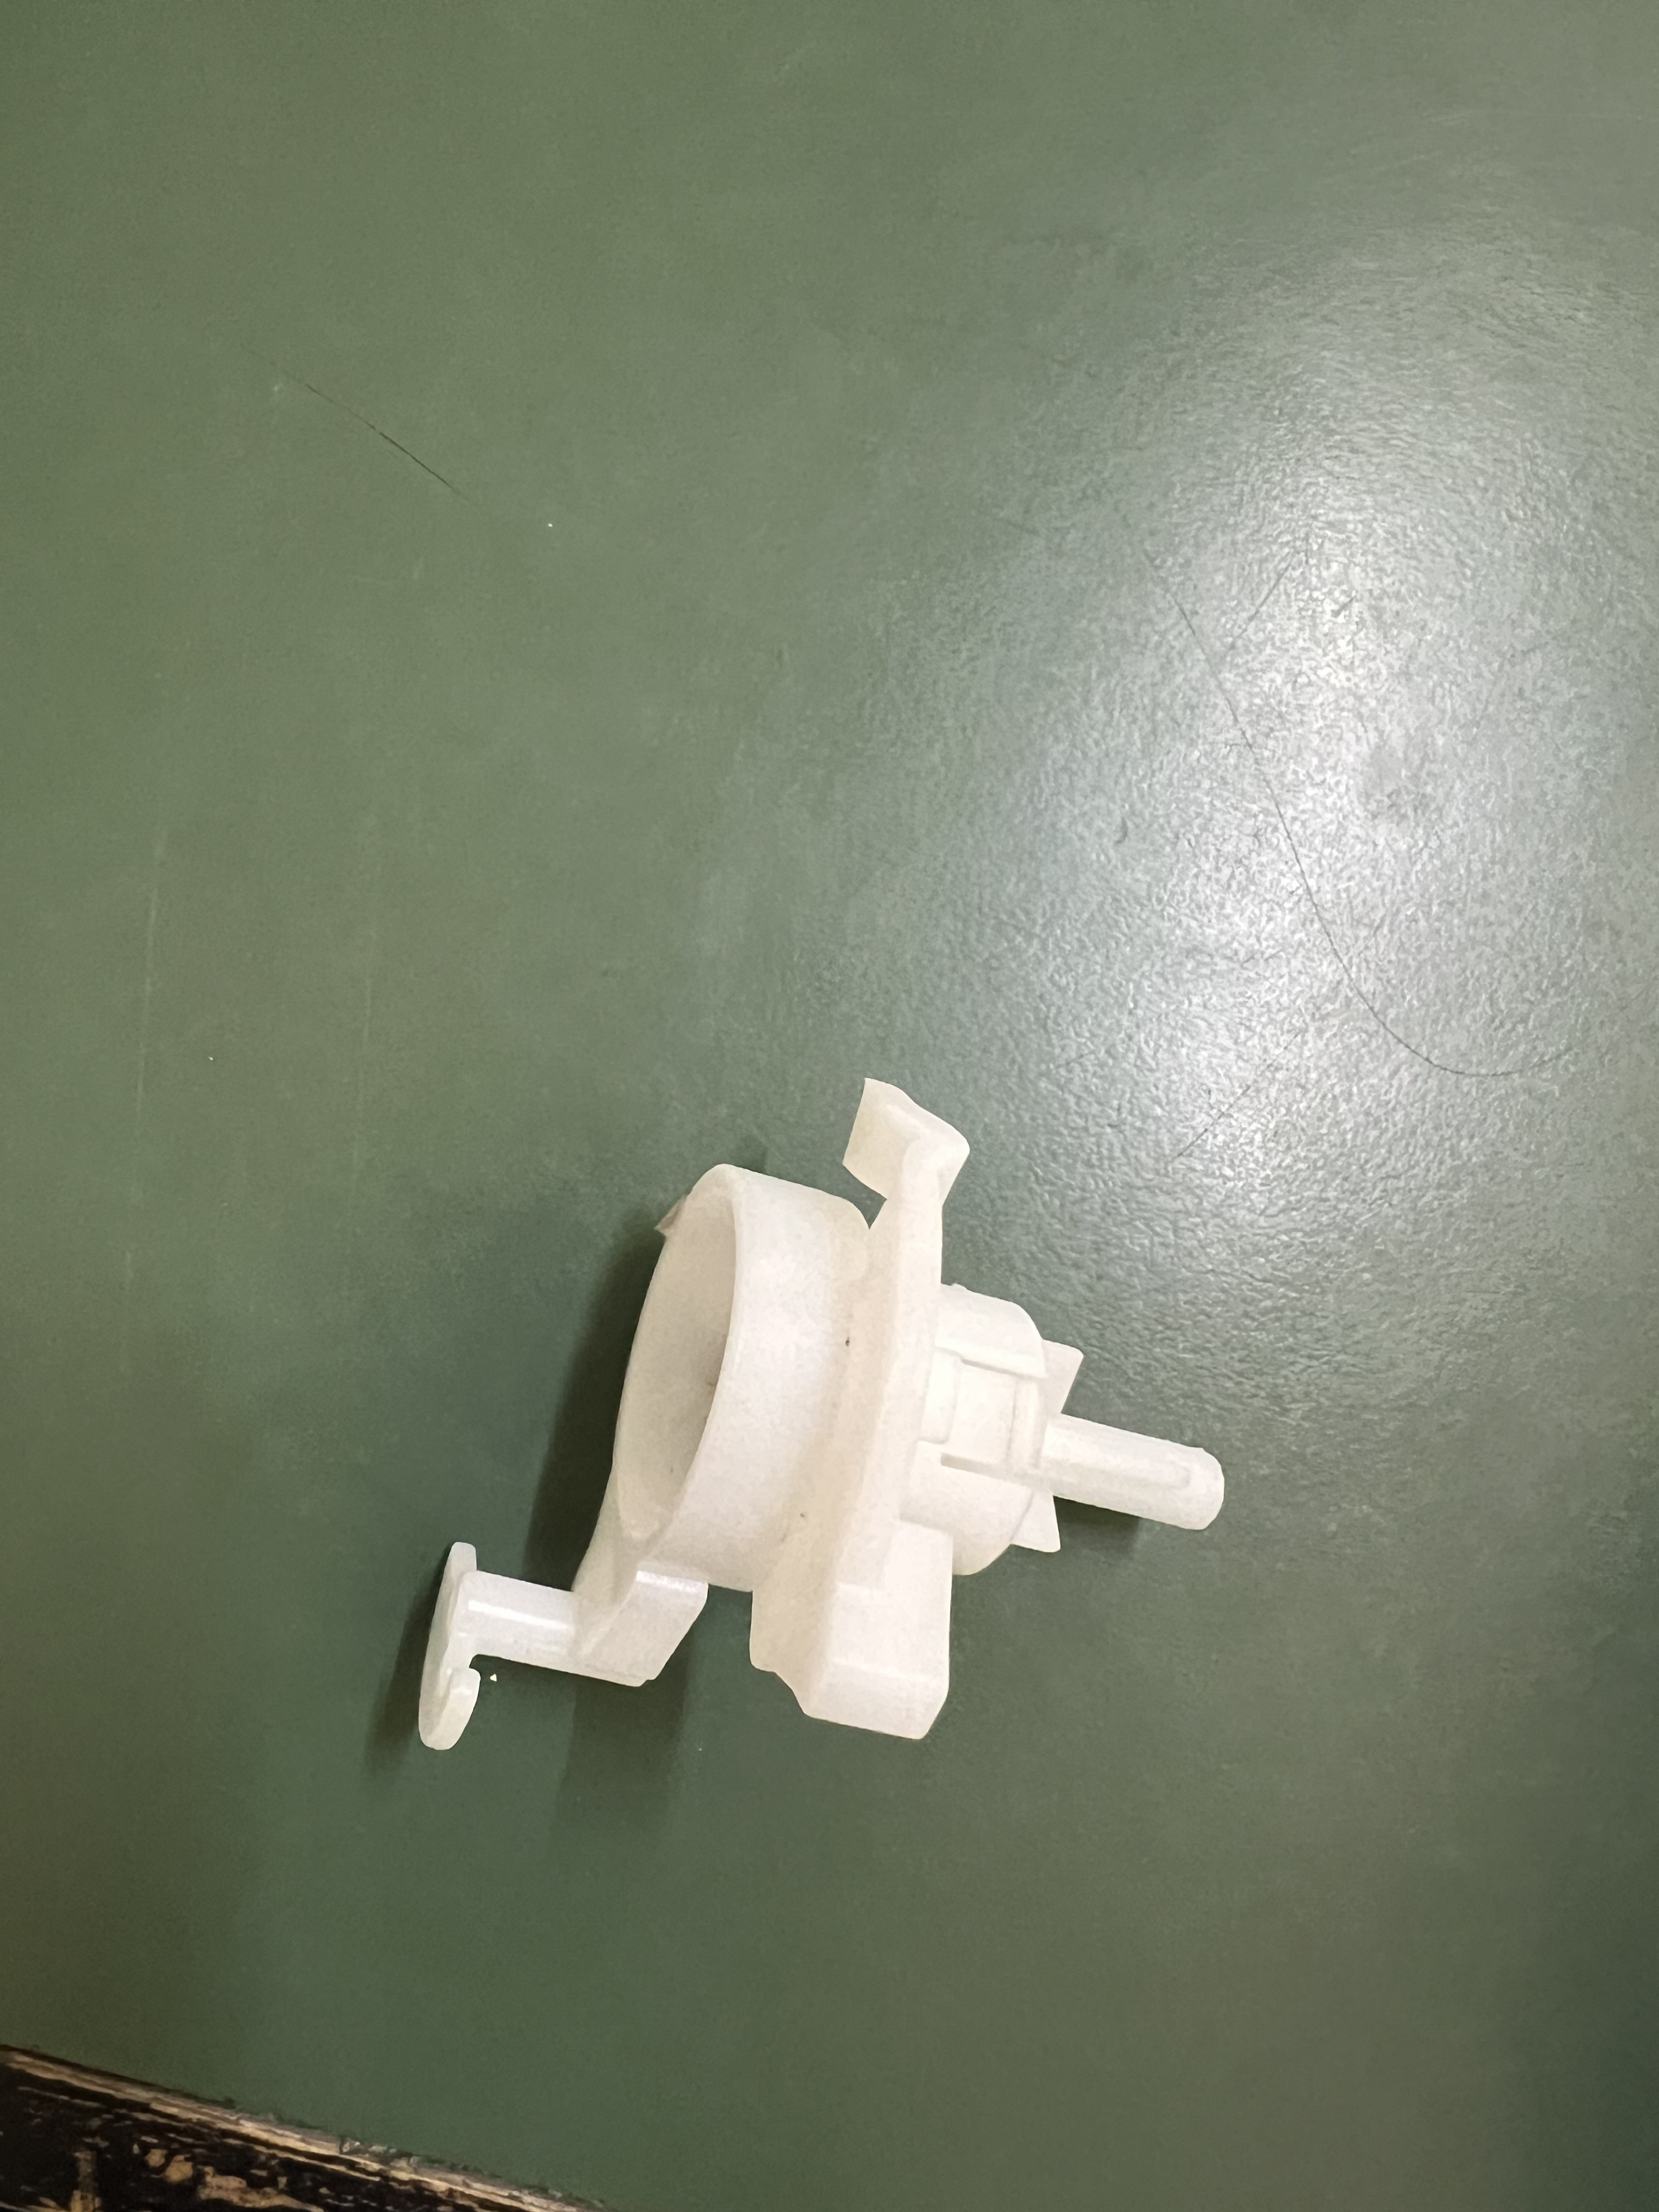drain_lever: (410, 1064, 1253, 1806)
